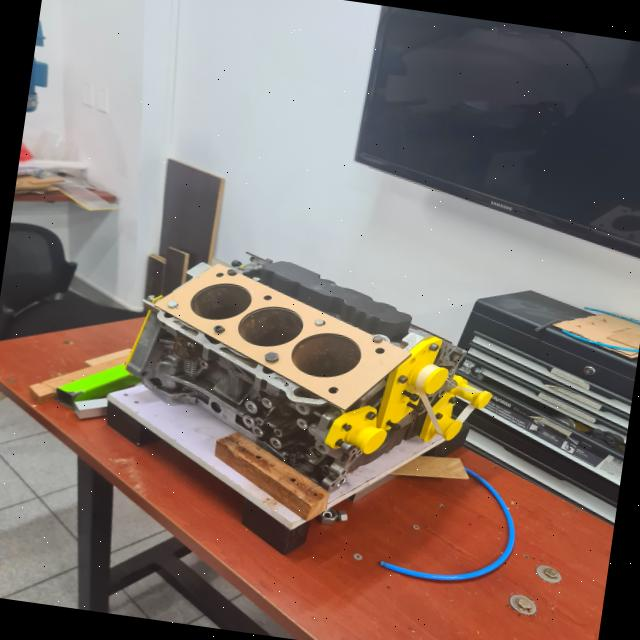tor_v1: (156, 265, 407, 410)
